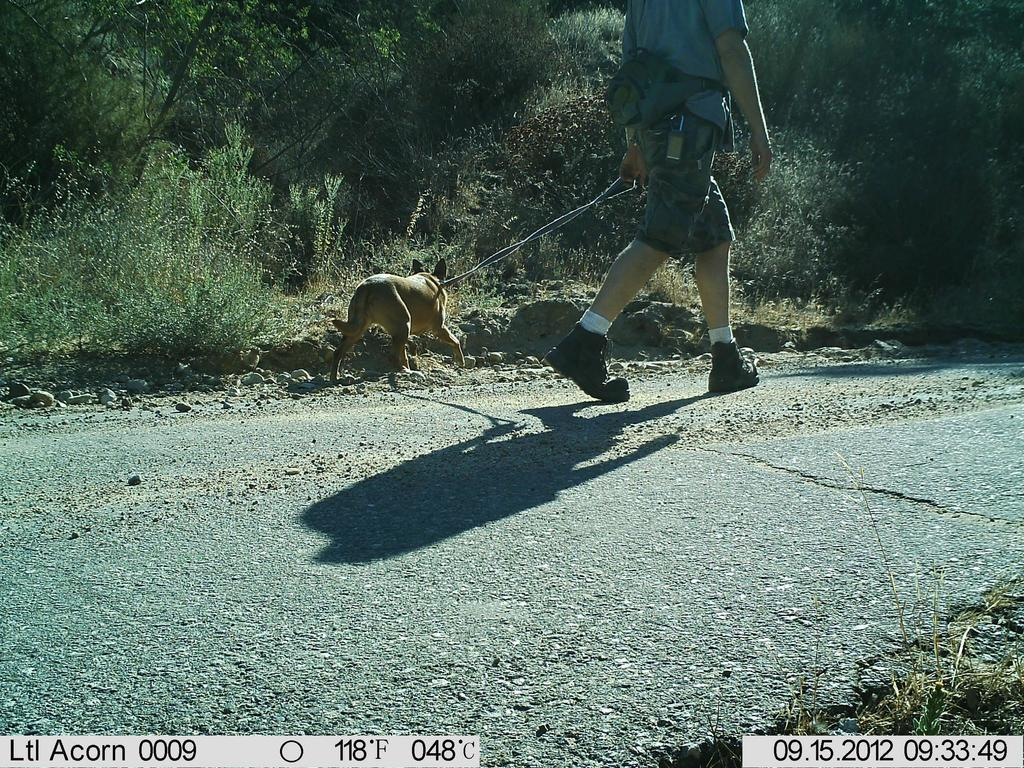dog: (328, 249, 475, 393)
